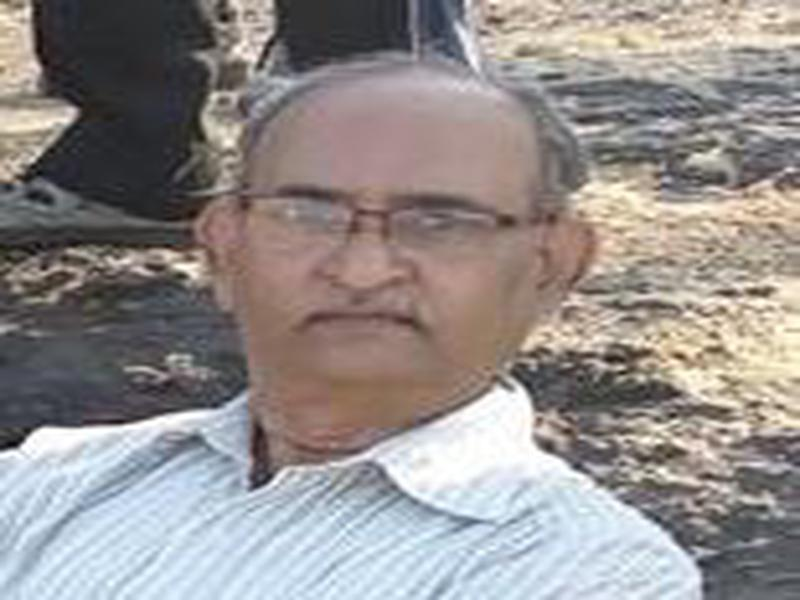without_mask: (246, 142, 531, 401)
